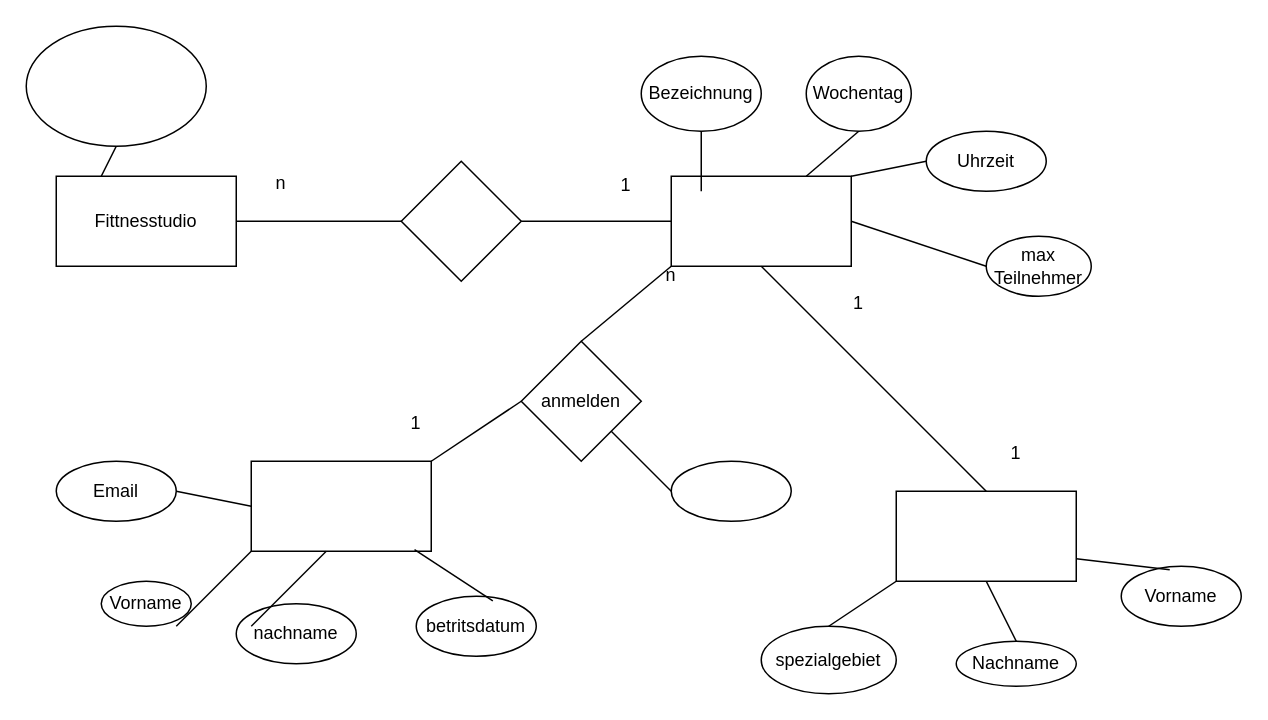
This 1268x720 diagram has some shape labels left out. The shapes that lost their labels are listed below. From the top down, each one's centre as x and y in pixels, then its label:
At (x=115, y=85): "Name".
At (x=460, y=220): "hat".
At (x=760, y=220): "Kurse".
At (x=340, y=505): "mitglied".
At (x=730, y=490): "anmelde-datum".
At (x=985, y=535): "Trainer".
